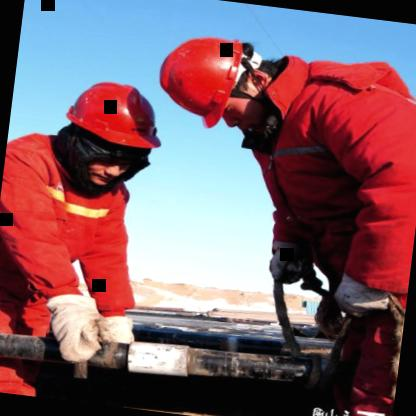helmet: (46, 66, 178, 196), (144, 21, 273, 132)
